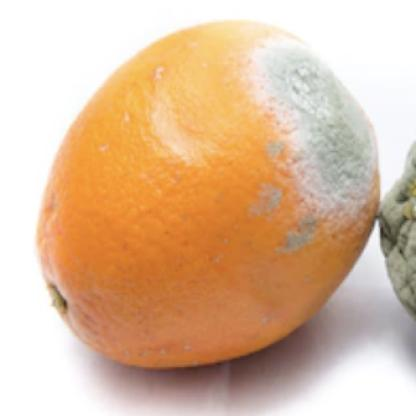rotten: (40, 17, 386, 370)
